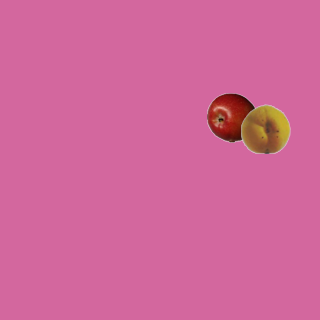Apple Braeburn: (206, 92, 256, 142)
Peach 2: (240, 103, 290, 153)
